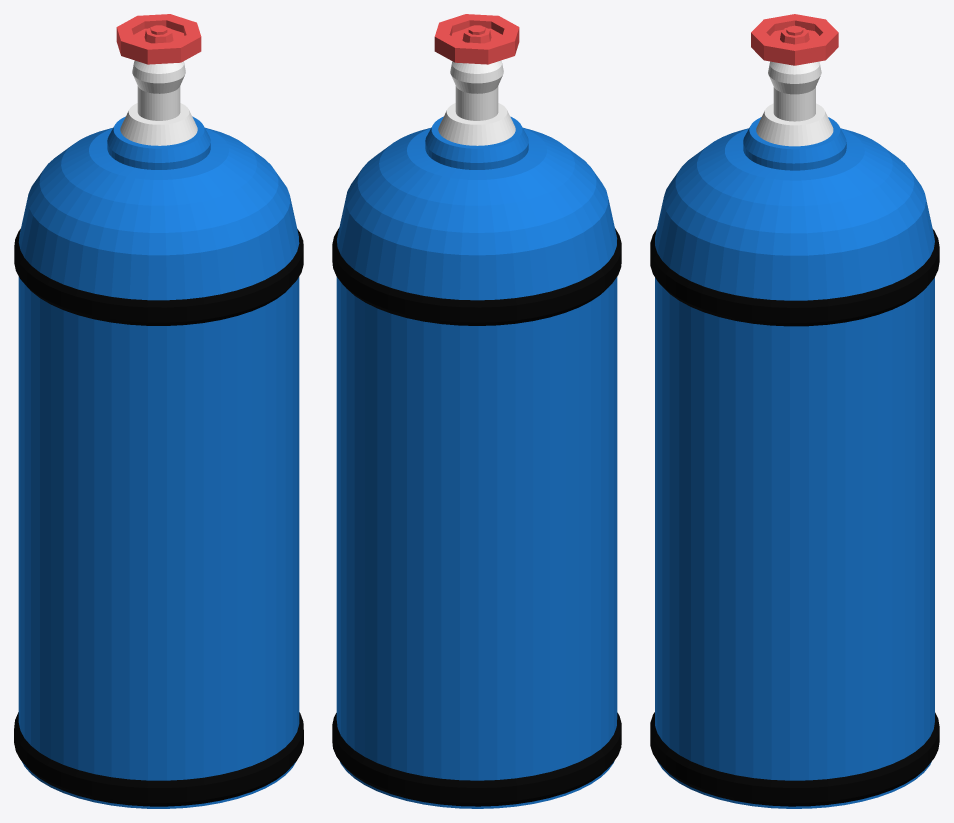
The model's file is nitro.fbx.
3 renders of one model, left to right at view 1: azimuth 30°, elevation 25°; view 2: azimuth 150°, elevation 25°; view 3: azimuth 270°, elevation 25°, orthographic.
Parts seen in each view (by area): view 1: Cylinder; view 2: Cylinder; view 3: Cylinder.
Part boxes in pixels (bbox=[...]): Cylinder: bbox=[14, 14, 303, 808]; Cylinder: bbox=[332, 14, 621, 808]; Cylinder: bbox=[650, 14, 939, 808].
Bounding box in the file's own units: 206 × 567 × 206.
